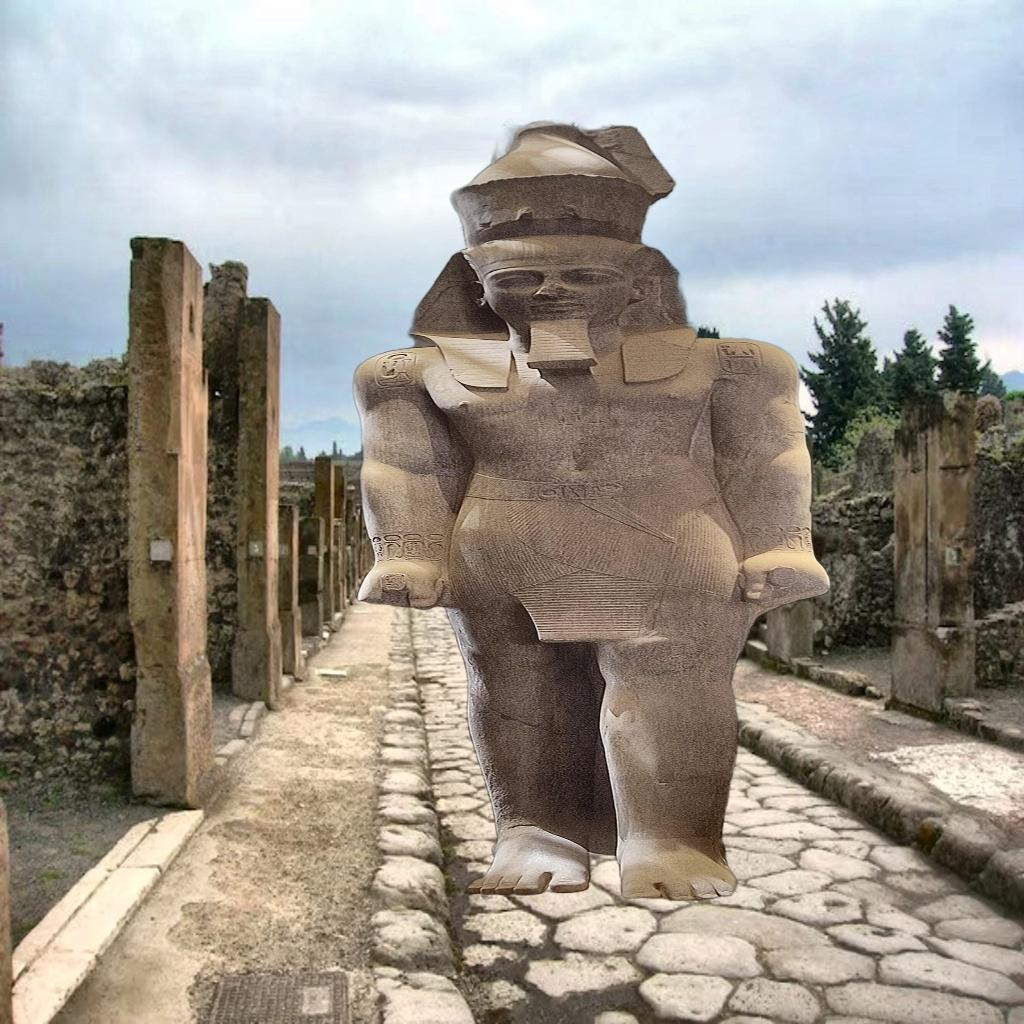Colossal Statue of Ramesses II beloved of Ptah: (346, 119, 840, 918)
